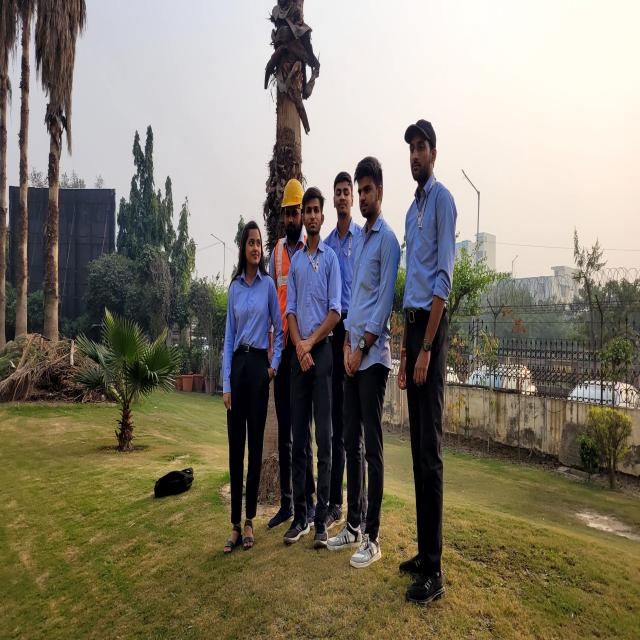safe: (270, 179, 306, 528)
unsafe: (399, 114, 456, 530), (350, 157, 396, 531), (224, 220, 272, 533), (294, 186, 332, 532)
